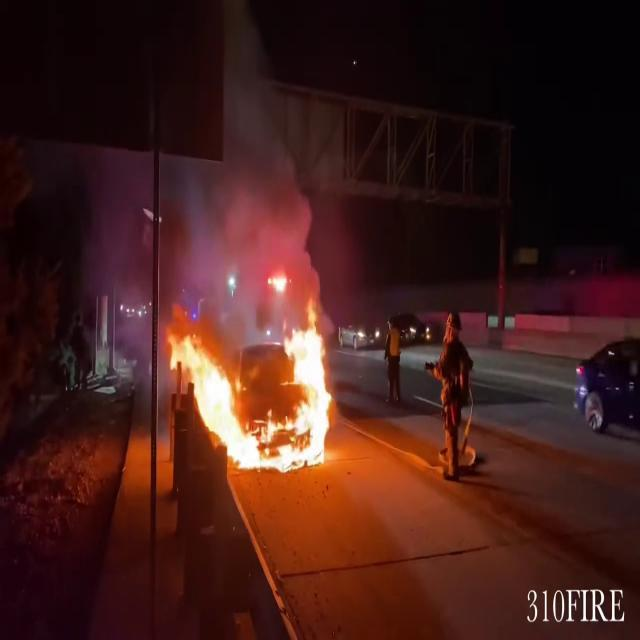Fire: (170, 267, 344, 475)
Smoke: (65, 23, 325, 316)
